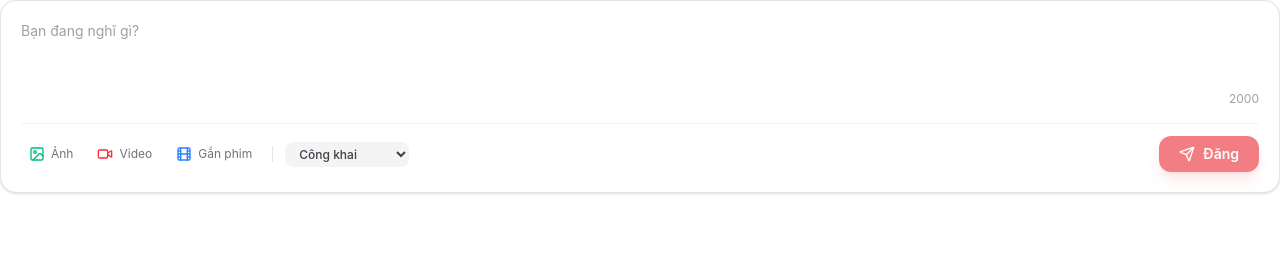
Test case: SOC-2b: Short Social Videos in Posts › 3. PostComposer Social Video Flow › maps 409 VIDEO_IN_USE to a clear error message upon submitting
Step 1. Type "Bài viết đính kèm video bị trùng" into the text box with placeholder "Bạn đang nghĩ gì?" → (640, 51), box [21, 21, 1259, 81]
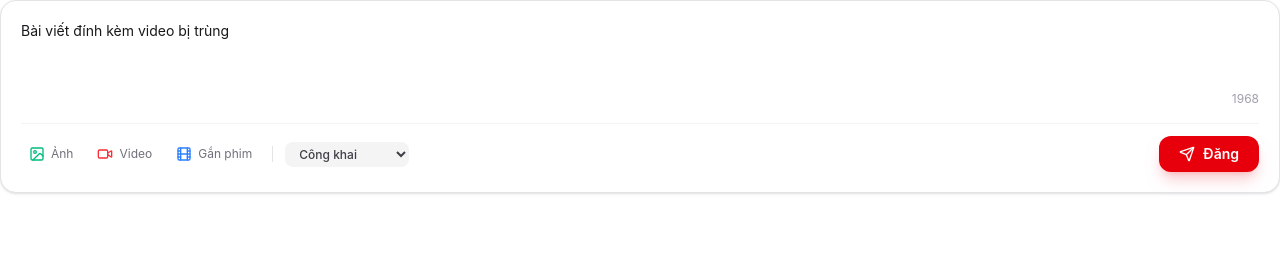
Step 2. Click the button with aria-label "Đăng bài viết" → (1209, 154), box [1159, 136, 1259, 172]
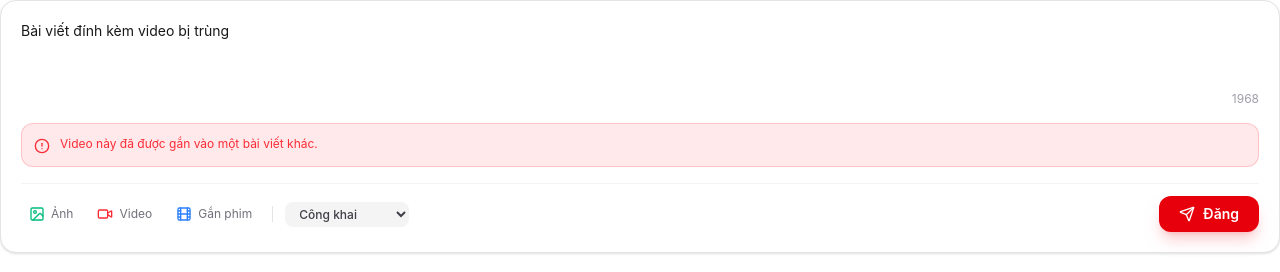
Expected: the text "Video này đã được gắn vào một bài viết khác." is shown, [60, 136, 318, 152]
